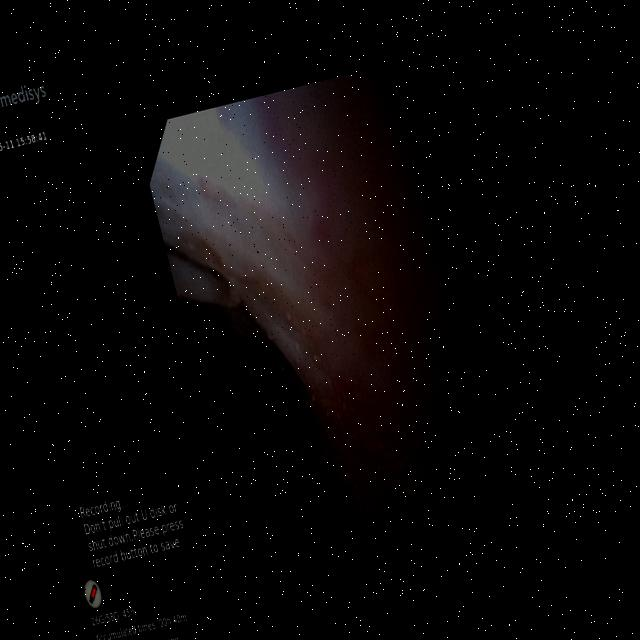laser-fibre: (161, 242, 237, 307)
